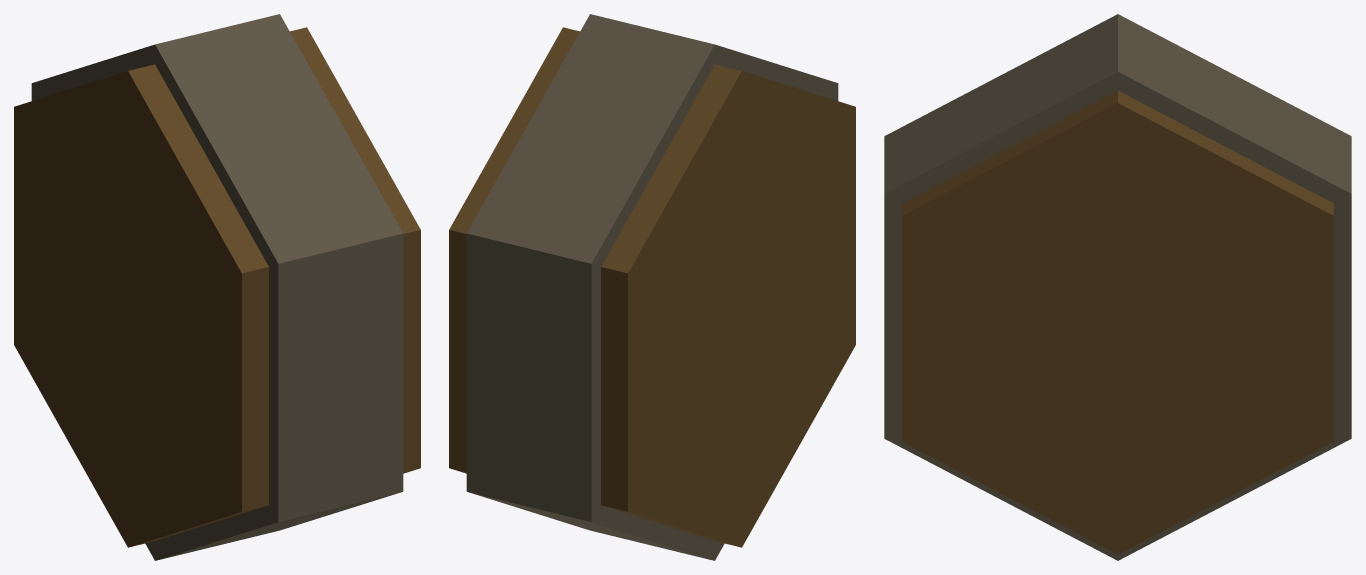
The model's file is siegecatapultwheel.fbx.
The picture shows the model from 3 angles, left to right: view 1: azimuth 30°, elevation 25°; view 2: azimuth 150°, elevation 25°; view 3: azimuth 270°, elevation 25°; orthographic projection. The views are drawn at different scales.
Visible parts, largest first — view 1: pCylinder3; view 2: pCylinder3; view 3: pCylinder3.
Boxes of the visible parts, x1,y1,x2,y2 form: pCylinder3: [14, 14, 420, 560]; pCylinder3: [449, 14, 855, 560]; pCylinder3: [884, 14, 1351, 560].
Size of the model in its own units: 7.66 by 21.13 by 18.3.
Materials: 1 (1 with a texture image).
